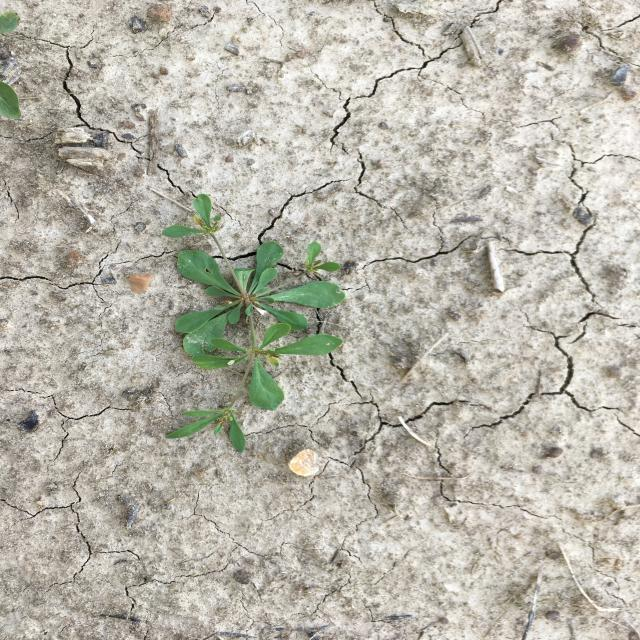Carpetweed: (160, 193, 346, 456)
